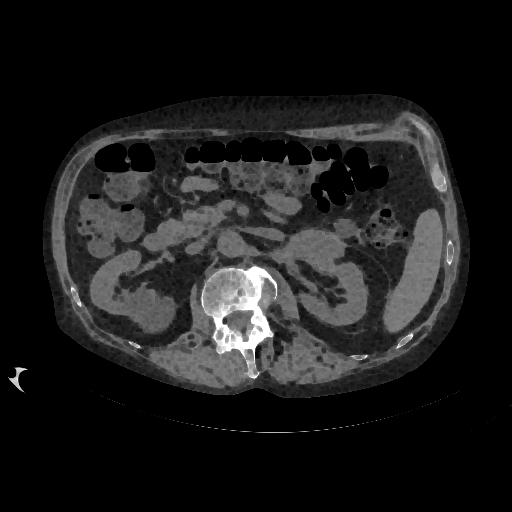Lesion: (284, 226, 348, 263)
